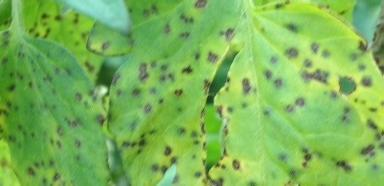Tomato Septoria leaf spot: (95, 0, 384, 186), (0, 22, 108, 186)
